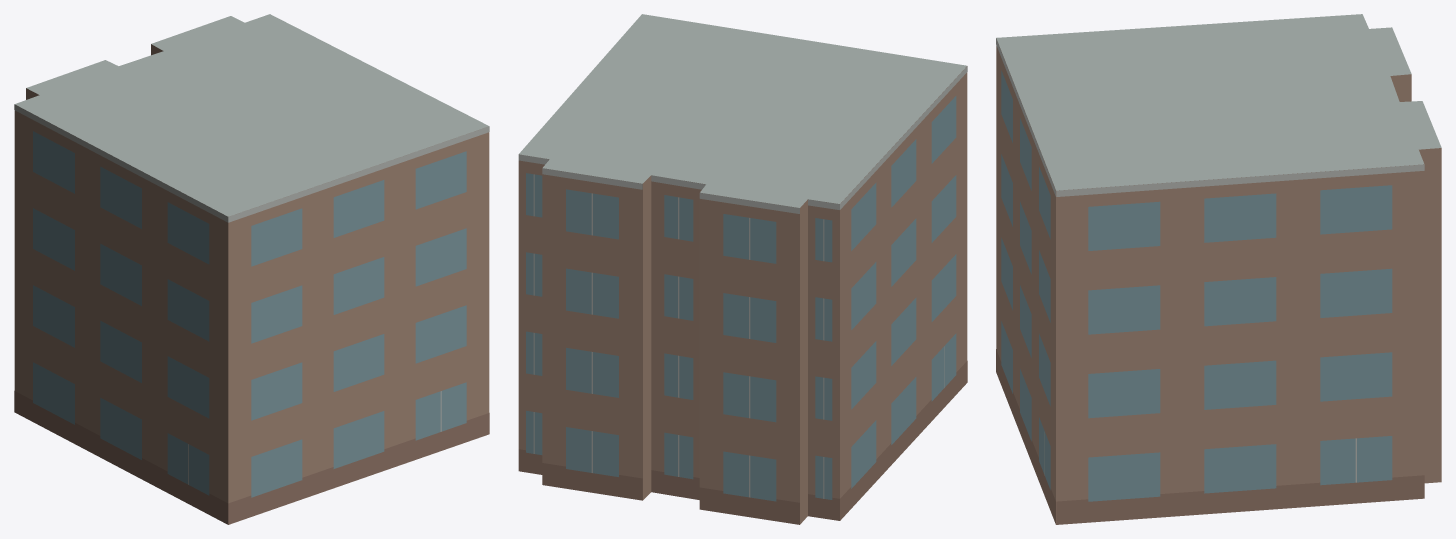
Rendered from survey-upis-33021671.glb.
3 renders of one model, left to right at view 1: azimuth 30°, elevation 25°; view 2: azimuth 150°, elevation 25°; view 3: azimuth 270°, elevation 25°, orthographic. The views are drawn at different scales.
Parts seen in each view (by area): view 1: survey-upis-33021671.tmp; view 2: survey-upis-33021671.tmp; view 3: survey-upis-33021671.tmp.
Part boxes in pixels (x1,y1,x2,y2): survey-upis-33021671.tmp: [14, 14, 489, 524]; survey-upis-33021671.tmp: [518, 14, 967, 524]; survey-upis-33021671.tmp: [996, 14, 1441, 524].
Bounding box in the file's own units: 14.29 × 12.6 × 15.23.
